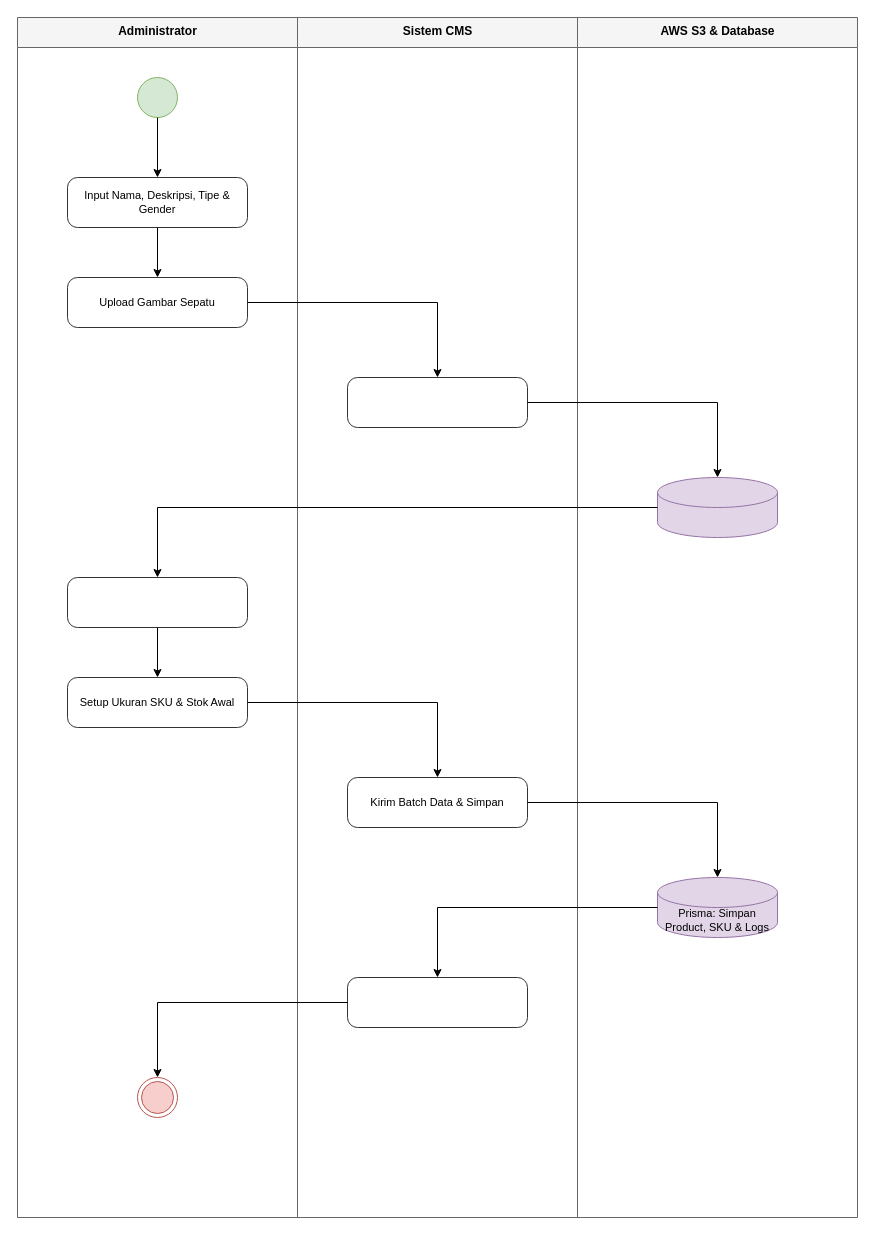
Image size: 875x1235. Some labels were removed from this diagram. Each missing label, with the centre of its shape:
"Kompresi Gambar di Browser" belongs at point (437, 402).
"Setup Warna Varian & Base Price" belongs at point (157, 602).
"Tampilkan Notifikasi Sukses" belongs at point (437, 1002).
"Upload ke AWS S3 Bucket" belongs at point (717, 507).
